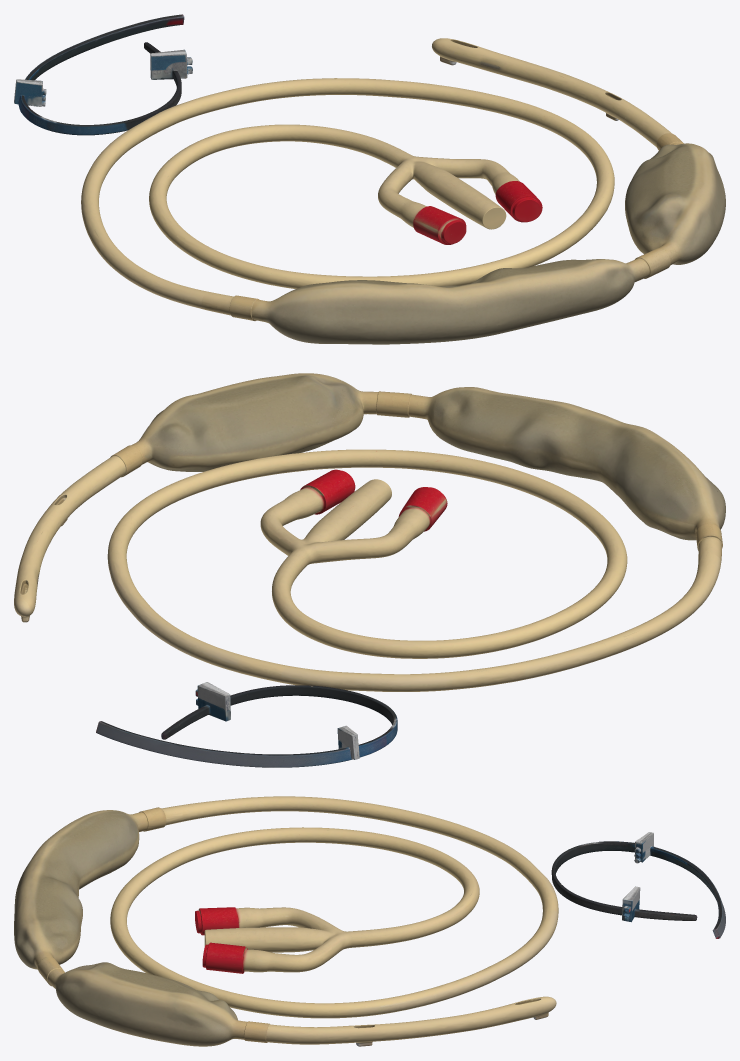
The model's file is SBTUBE.glb.
The picture shows the model from 3 angles, top to bottom: view 1: azimuth 30°, elevation 25°; view 2: azimuth 150°, elevation 25°; view 3: azimuth 270°, elevation 25°; orthographic projection. The views are drawn at different scales.
Bounding box in the file's own units: 1.52 × 0.1525 × 1.9.
Materials: 1 (1 with a texture image).
